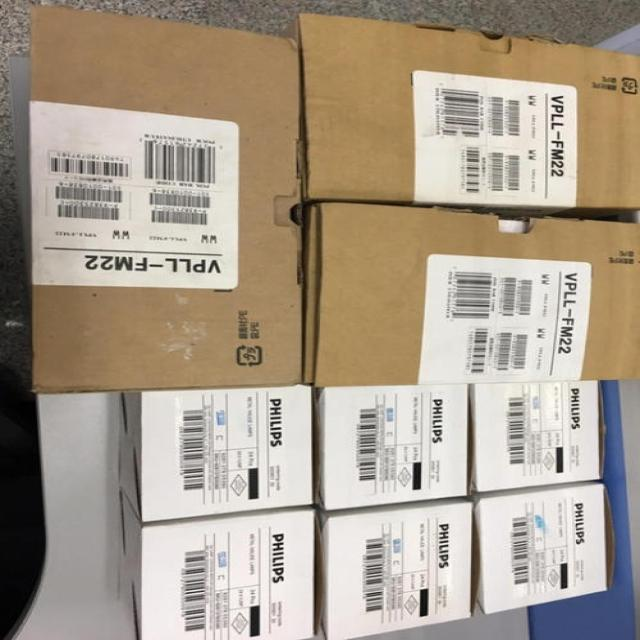box: (23, 7, 305, 391), (301, 11, 639, 212), (305, 200, 640, 390), (122, 497, 316, 638), (119, 386, 312, 522), (320, 495, 470, 640), (321, 389, 467, 510), (476, 486, 607, 614), (471, 382, 604, 494)
